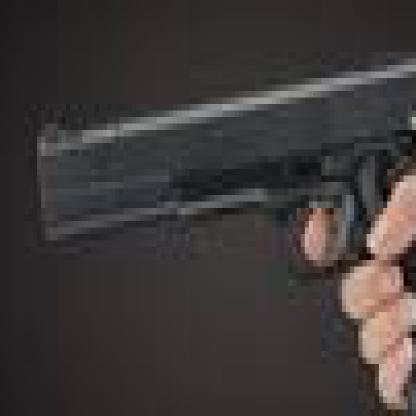gun: (37, 0, 412, 410)
